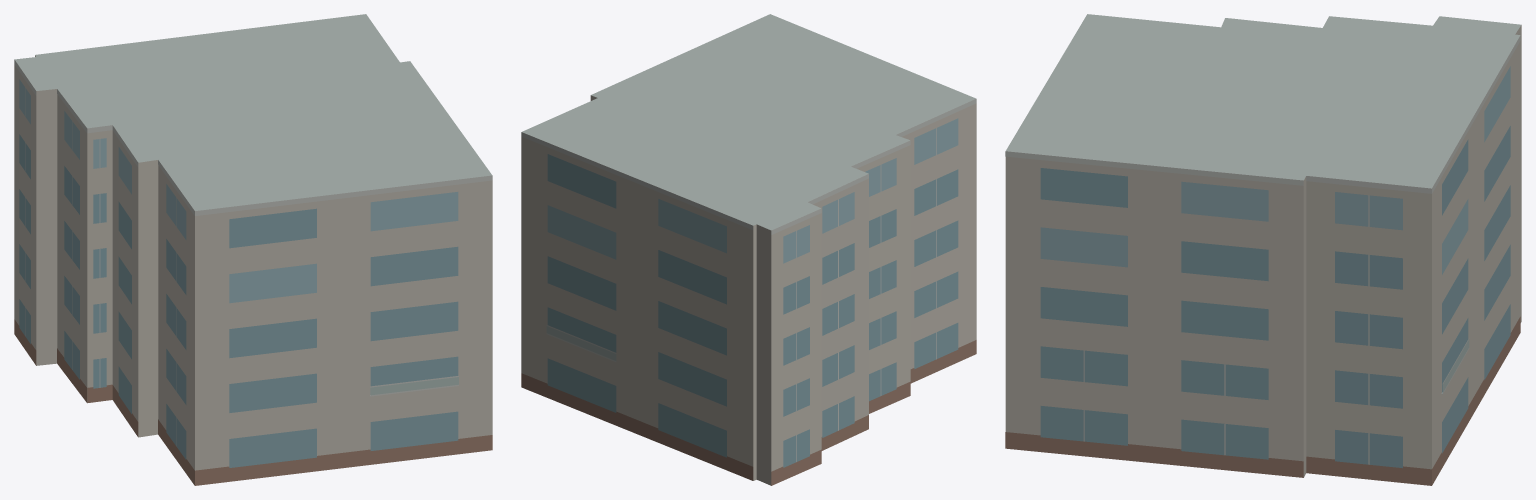
File: survey-upis-32511881.glb
The picture shows the model from 3 angles, left to right: view 1: azimuth 30°, elevation 25°; view 2: azimuth 150°, elevation 25°; view 3: azimuth 270°, elevation 25°; orthographic projection. The views are drawn at different scales.
Parts seen in each view (by area): view 1: survey-upis-32511881.tmp; view 2: survey-upis-32511881.tmp; view 3: survey-upis-32511881.tmp.
Boxes of the visible parts, x1,y1,x2,y2 form: survey-upis-32511881.tmp: [14, 14, 492, 485]; survey-upis-32511881.tmp: [521, 14, 976, 485]; survey-upis-32511881.tmp: [1005, 14, 1521, 485].
Bounding box in the file's own units: 17 × 13.5 × 21.24.
